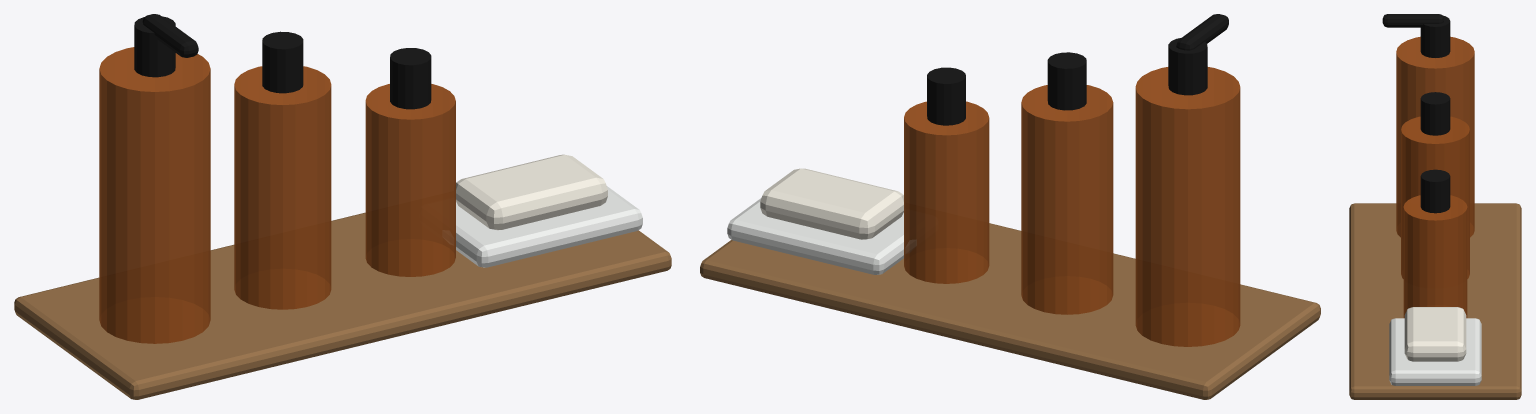
File: bath-bottles.glb
The picture shows the model from 3 angles, left to right: view 1: azimuth 30°, elevation 25°; view 2: azimuth 150°, elevation 25°; view 3: azimuth 270°, elevation 25°; orthographic projection. The views are drawn at different scales.
Visible parts, largest first — view 1: tray, bottle-0, bottle-1, bottle-2, soap, soap-dish, cap-1, cap-2, cap-0, pump; view 2: tray, bottle-0, bottle-1, bottle-2, soap, soap-dish, cap-1, cap-2, cap-0, pump; view 3: tray, bottle-2, bottle-0, bottle-1, soap-dish, soap, cap-1, cap-2, cap-0, pump.
Boxes of the visible parts, left/top/right/bottom form: tray: left=14, top=212, right=671, bottom=399; bottle-0: left=99, top=47, right=210, bottom=343; bottle-1: left=234, top=66, right=331, bottom=309; bottle-2: left=365, top=84, right=455, bottom=276; soap: left=456, top=154, right=607, bottom=230; soap-dish: left=444, top=186, right=642, bottom=267; cap-1: left=262, top=31, right=303, bottom=93; cap-2: left=390, top=48, right=431, bottom=109; cap-0: left=134, top=16, right=175, bottom=77; pump: left=142, top=14, right=198, bottom=57; tray: left=700, top=223, right=1320, bottom=399; bottle-0: left=1135, top=67, right=1240, bottom=346; bottle-1: left=1021, top=85, right=1113, bottom=314; bottle-2: left=904, top=101, right=989, bottom=283; soap: left=760, top=168, right=903, bottom=239; soap-dish: left=727, top=198, right=916, bottom=274; cap-1: left=1047, top=52, right=1086, bottom=110; cap-2: left=927, top=67, right=965, bottom=125; cap-0: left=1168, top=38, right=1207, bottom=95; pump: left=1176, top=14, right=1228, bottom=50; tray: left=1349, top=203, right=1521, bottom=399; bottle-2: left=1403, top=195, right=1467, bottom=318; bottle-0: left=1396, top=36, right=1474, bottom=237; bottle-1: left=1401, top=116, right=1469, bottom=278; soap-dish: left=1389, top=318, right=1481, bottom=385; soap: left=1404, top=307, right=1466, bottom=361; cap-1: left=1420, top=92, right=1450, bottom=135; cap-2: left=1420, top=169, right=1450, bottom=213; cap-0: left=1420, top=15, right=1450, bottom=57; pump: left=1382, top=14, right=1443, bottom=27.
Size of the model in its own units: 0.36 by 0.205 by 0.14.
